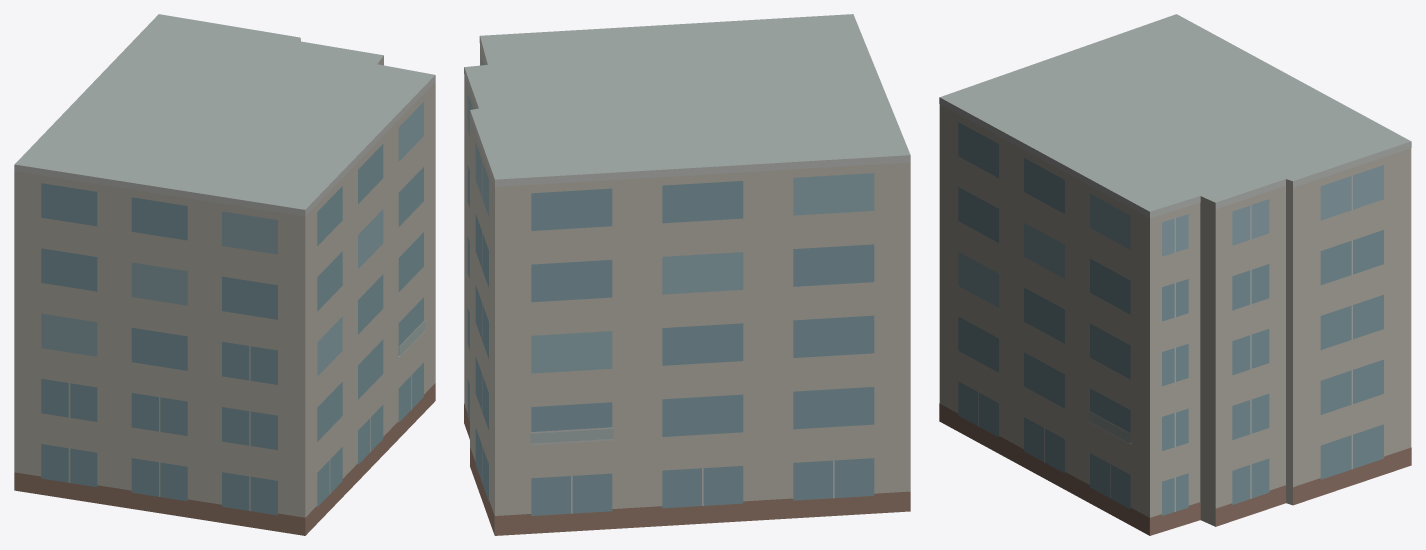
Rendered from survey-upis-32690559.glb.
The picture shows the model from 3 angles, left to right: view 1: azimuth 30°, elevation 25°; view 2: azimuth 150°, elevation 25°; view 3: azimuth 270°, elevation 25°; orthographic projection. The views are drawn at different scales.
Visible parts, largest first — view 1: survey-upis-32690559.tmp; view 2: survey-upis-32690559.tmp; view 3: survey-upis-32690559.tmp.
Boxes of the visible parts, x1,y1,x2,y2 form: survey-upis-32690559.tmp: (14,14,435,535); survey-upis-32690559.tmp: (464,14,910,535); survey-upis-32690559.tmp: (939,14,1411,535).
Bounding box in the file's own units: 15.58 × 11.9 × 15.71.
